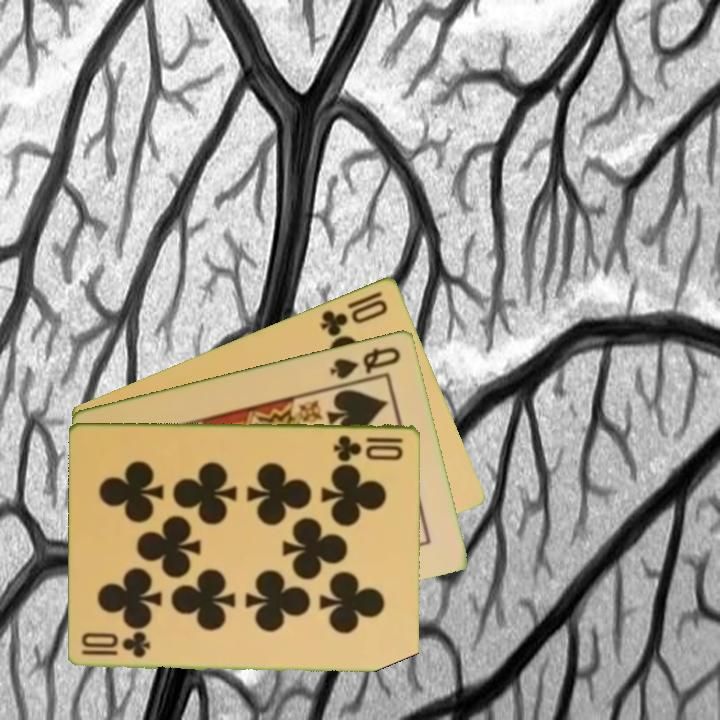10c: (317, 287, 391, 339), (330, 431, 406, 462), (78, 631, 153, 660)
Qs: (326, 343, 404, 382)
